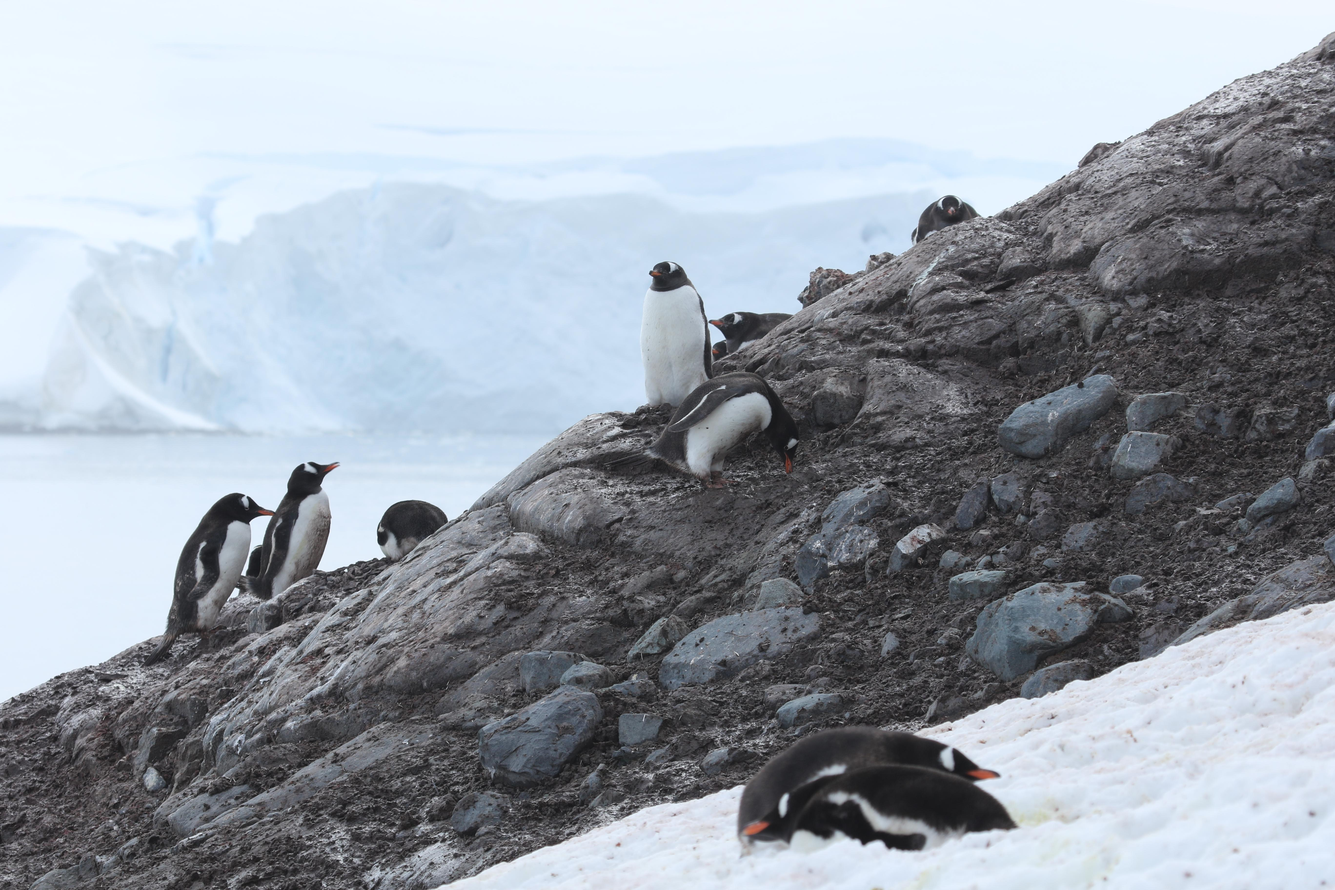Penguin: (736, 727, 999, 835), (741, 764, 1016, 854), (139, 493, 275, 668), (604, 372, 799, 490), (235, 462, 340, 601), (641, 261, 713, 408), (377, 500, 448, 560), (910, 194, 983, 246), (709, 312, 793, 354), (712, 340, 729, 361)
